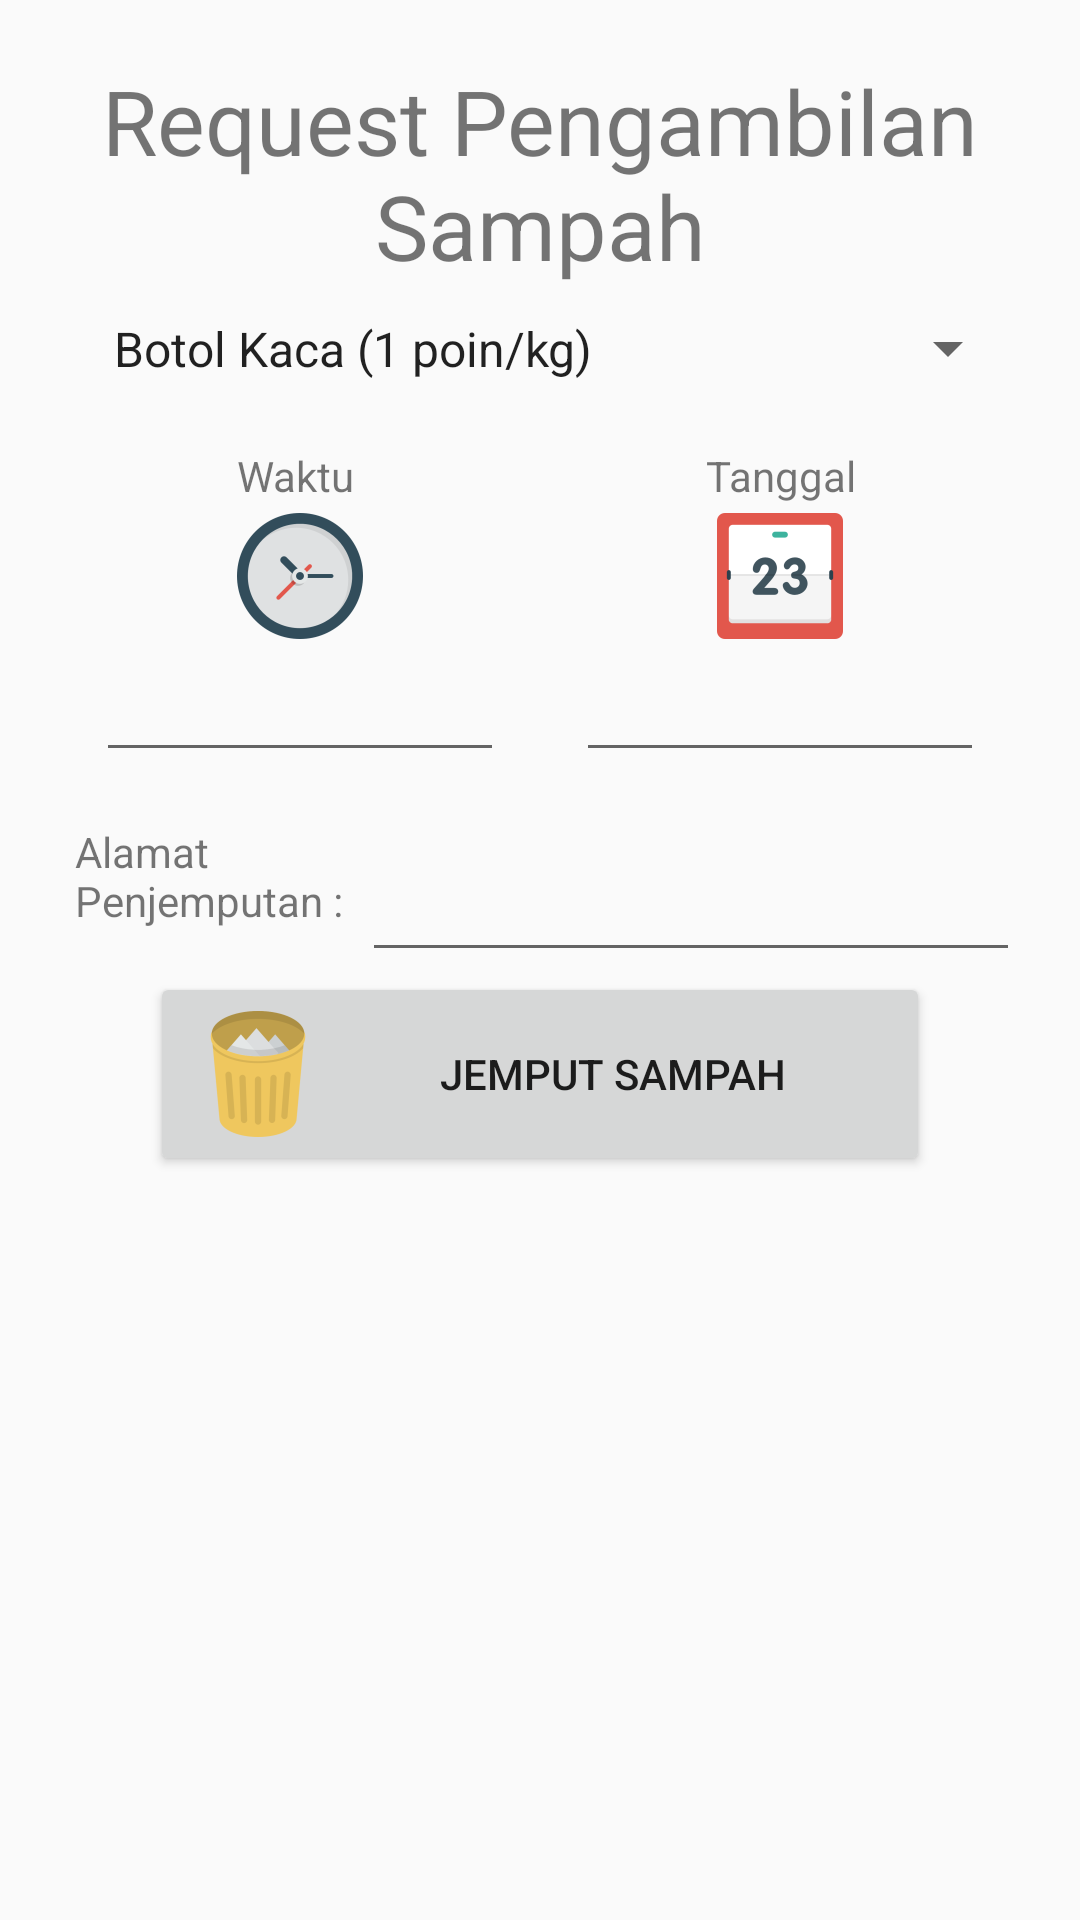

Named icons in this screenshot (1080px×1920px) and their centers, (x=x, y=y):
jam: (x=300, y=576)
kalender: (x=780, y=576)
